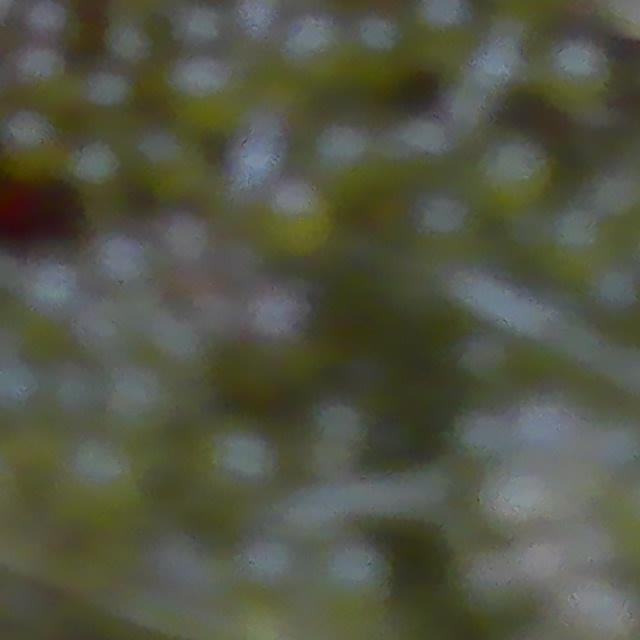SeaGrape: (60, 436, 142, 522), (475, 134, 553, 213), (197, 417, 277, 493), (540, 37, 611, 109), (105, 360, 175, 432), (319, 540, 390, 608), (239, 533, 302, 591)
